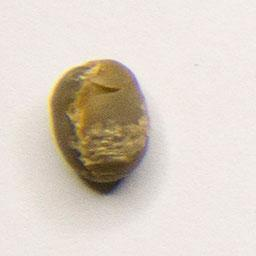peaberry: (47, 55, 154, 187)
